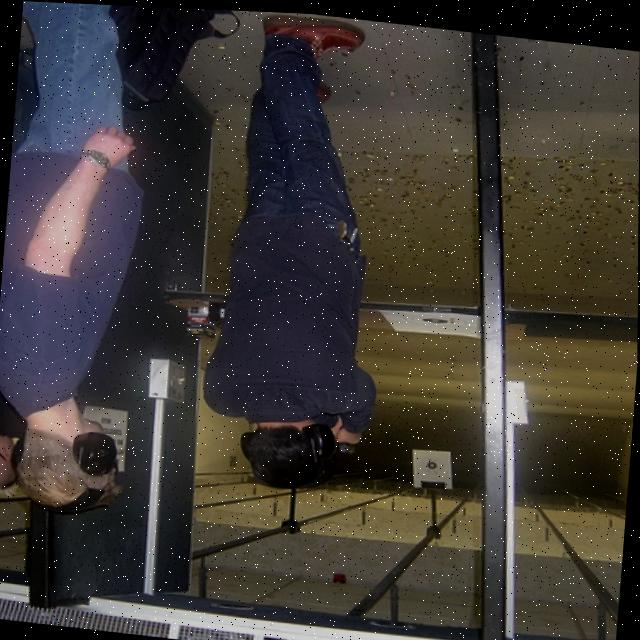pistol: (334, 436, 358, 452)
